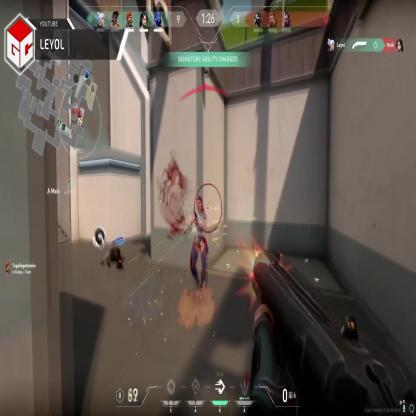enemy: (188, 198, 212, 302)
enemy_head: (197, 198, 202, 212)
